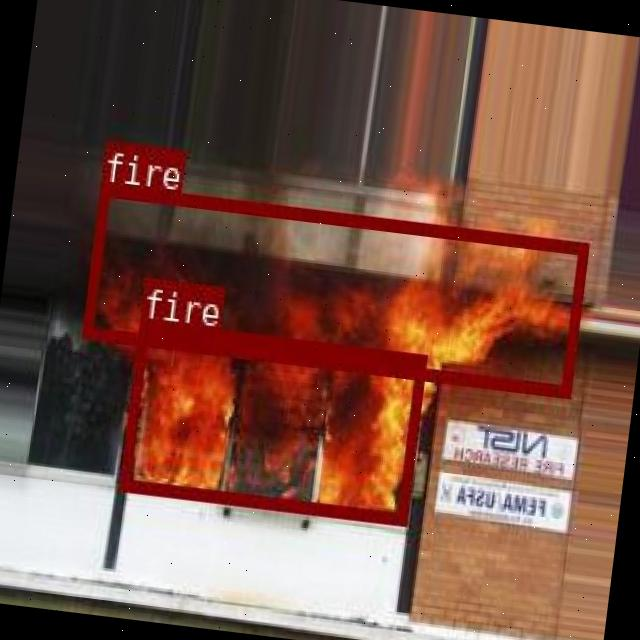fire: (80, 182, 586, 394), (119, 319, 424, 522)
